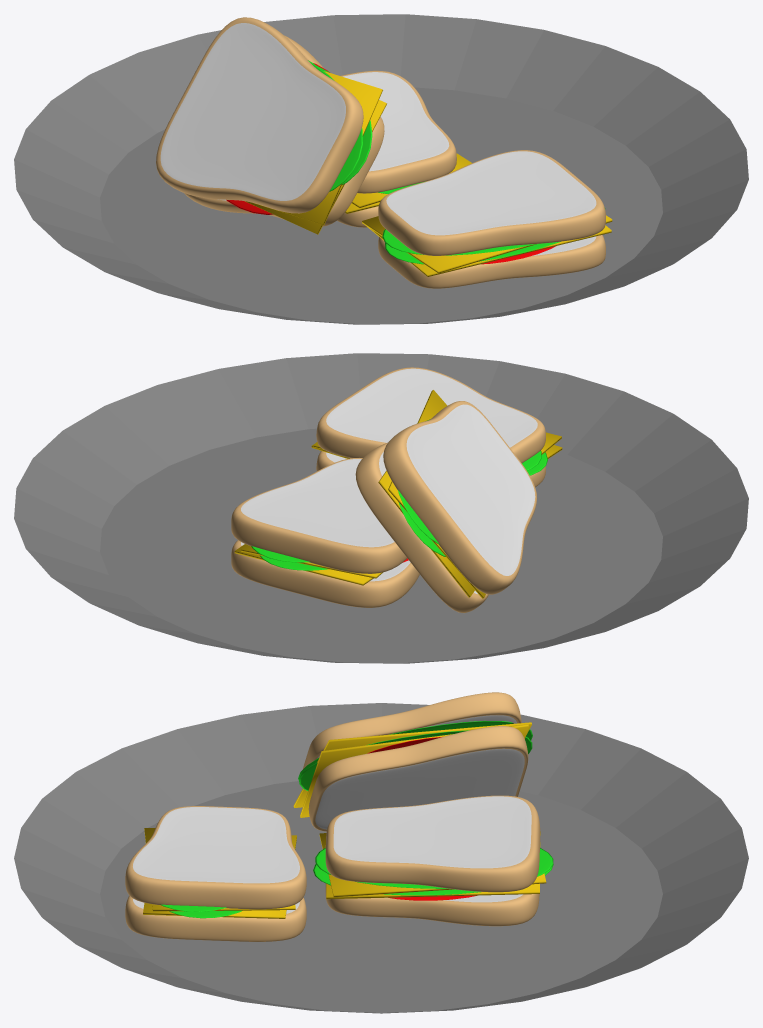
Rendered from sandwich.gltf.
The picture shows the model from 3 angles, top to bottom: view 1: azimuth 30°, elevation 25°; view 2: azimuth 150°, elevation 25°; view 3: azimuth 270°, elevation 25°; orthographic projection.
Visible parts, largest first — view 1: Circle_2, Cube.003_13, Cube.005_22, Cube.001_4, Cube.004_21, Cube.002_12, Plane.011_18, Plane.018_27, Plane.008_15, Plane.015_24, Plane.012_19, Plane.016_25 (+2 smaller); view 2: Circle_2, Cube.003_13, Cube.001_4, Cube.005_22, Cube_3, Cube.002_12, Plane.011_18, Plane.008_15, Plane.001_6; view 3: Circle_2, Cube.001_4, Cube.005_22, Cube.002_12, Cube_3, Cube.003_13, Cube.004_21, Plane.008_15, Plane.004_9, Plane.011_18, Plane.001_6, Plane.005_10 (+4 smaller).
Boxes of the visible parts, left/top/right/bottom form: Circle_2: left=14, top=14, right=748, bottom=324; Cube.003_13: left=156, top=17, right=363, bottom=213; Cube.005_22: left=378, top=150, right=605, bottom=255; Cube.001_4: left=340, top=70, right=456, bottom=193; Cube.004_21: left=378, top=235, right=605, bottom=288; Cube.002_12: left=184, top=35, right=384, bottom=226; Plane.011_18: left=258, top=71, right=382, bottom=224; Plane.018_27: left=362, top=215, right=612, bottom=273; Plane.008_15: left=245, top=100, right=386, bottom=234; Plane.015_24: left=366, top=225, right=611, bottom=276; Plane.012_19: left=308, top=60, right=362, bottom=191; Plane.016_25: left=385, top=241, right=560, bottom=264; Circle_2: left=14, top=353, right=748, bottom=663; Cube.003_13: left=383, top=401, right=537, bottom=594; Cube.001_4: left=231, top=458, right=407, bottom=573; Cube.005_22: left=316, top=367, right=545, bottom=463; Cube_3: left=231, top=540, right=419, bottom=607; Cube.002_12: left=355, top=442, right=488, bottom=612; Plane.011_18: left=388, top=390, right=485, bottom=598; Plane.008_15: left=378, top=470, right=474, bottom=597; Plane.001_6: left=234, top=544, right=373, bottom=585; Circle_2: left=14, top=703, right=748, bottom=1013; Cube.001_4: left=325, top=795, right=540, bottom=892; Cube.005_22: left=125, top=806, right=306, bottom=909; Cube.002_12: left=308, top=726, right=528, bottom=831; Cube_3: left=325, top=883, right=539, bottom=926; Cube.003_13: left=303, top=692, right=521, bottom=768; Cube.004_21: left=125, top=895, right=306, bottom=941; Plane.008_15: left=300, top=724, right=528, bottom=817; Plane.004_9: left=319, top=833, right=546, bottom=897; Plane.011_18: left=293, top=722, right=531, bottom=807; Plane.001_6: left=326, top=831, right=540, bottom=899; Plane.005_10: left=315, top=848, right=553, bottom=888.
Bounding box in the file's own units: 2.61 × 0.6454 × 2.61.
